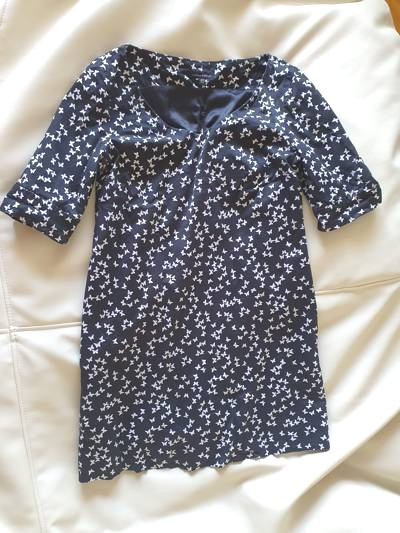Dress: (2, 32, 392, 498)
